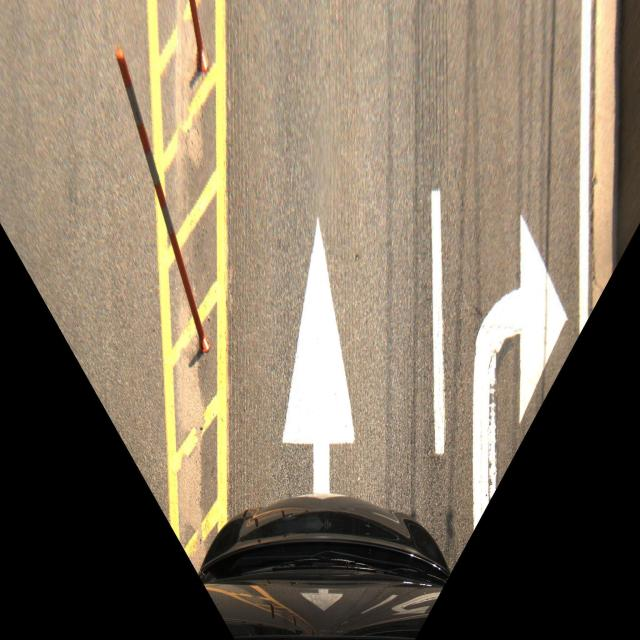right: (431, 211, 593, 521)
